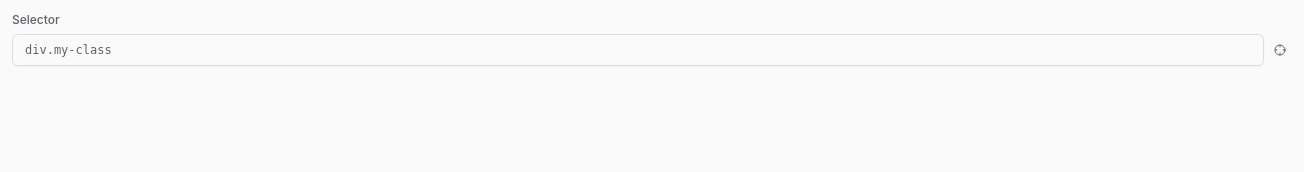
Test: SelectorField › clears the chips once an alternative is chosen
Click the button named "Pick element from page": [1280, 50] box [1268,38,1292,62]
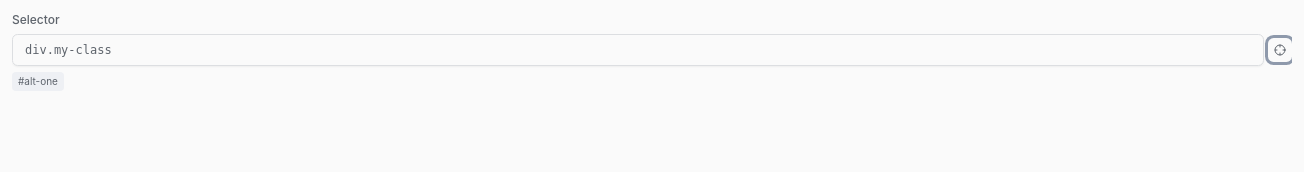
Click the button "#alt-one": [38, 82] box [12,72,64,91]
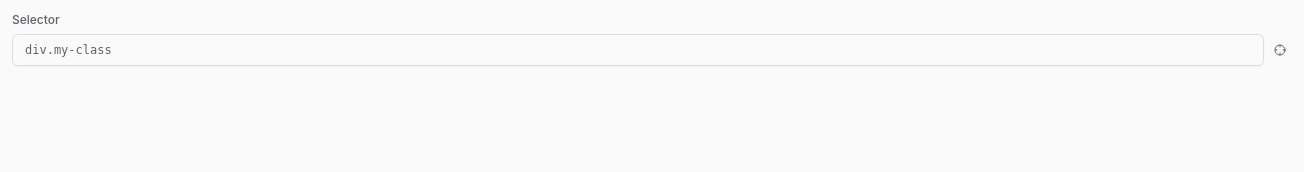
Now the button "#alt-one" is gone
